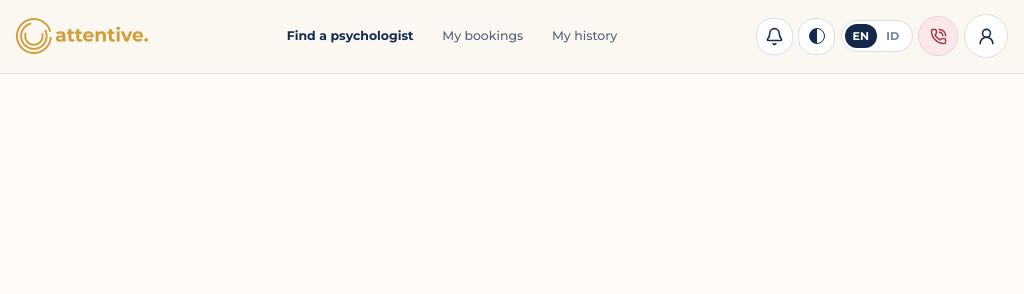
Scenario: Header › opens account details, closes with Escape, and signs out through the existing API
The width and height of the screenshot is (1024, 294).
Expected: the button "Sign out" is not shown
Click the button named "Your account". click: (986, 36)
box: left=964, top=14, right=1008, bottom=58
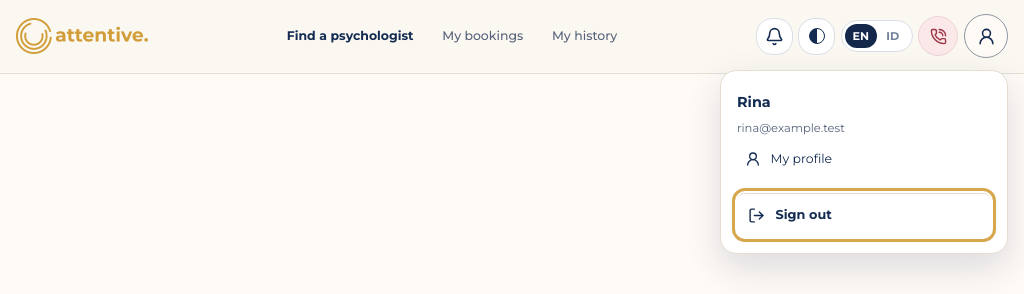
Expected: the button named "Your account" is expanded, left=964, top=14, right=1008, bottom=58
Expected: the text "rina@example.test" is shown, left=737, top=121, right=845, bottom=135
Press Escape
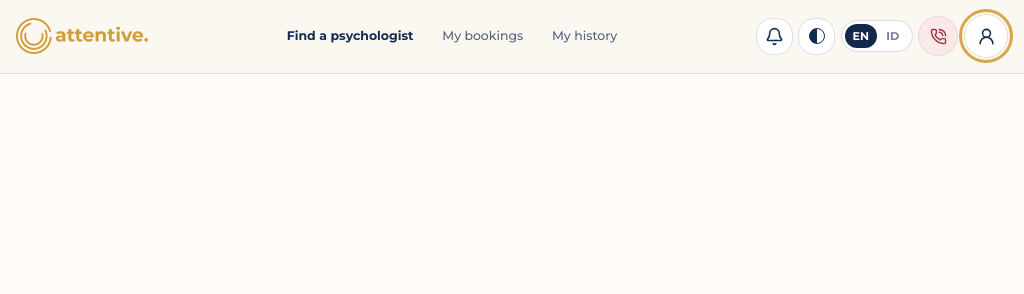
Expected: the button named "Your account" is collapsed
Click the button named "Your account". click: (986, 36)
box: left=964, top=14, right=1008, bottom=58
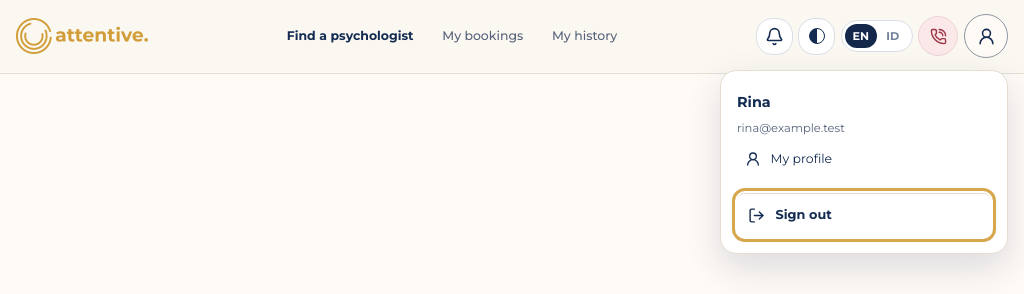
Click the button "Sign out". click: (864, 214)
box: left=737, top=192, right=991, bottom=236
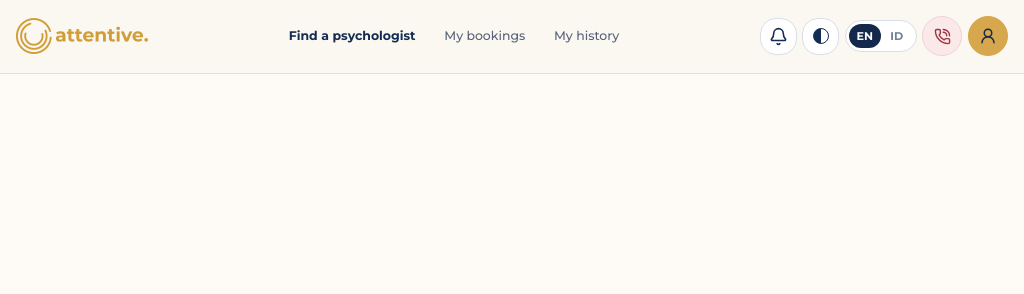
Expected: the link named "Sign in" is shown, left=968, top=16, right=1008, bottom=56
